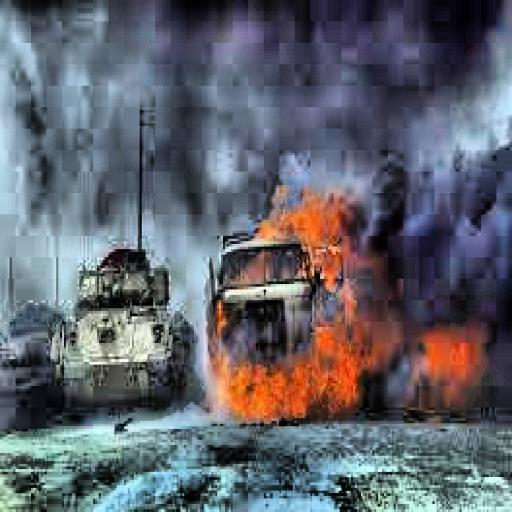fire: (200, 196, 378, 426), (415, 324, 495, 413)
